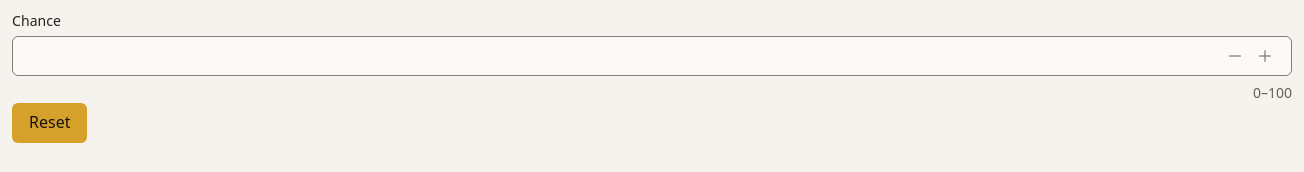
Test: Enter brings a typed value back inside the range
In the number field: (619, 56) [25,36,1213,74], type "500"
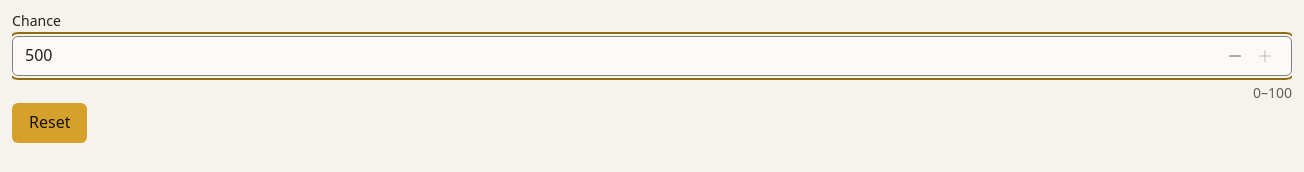
Press Enter
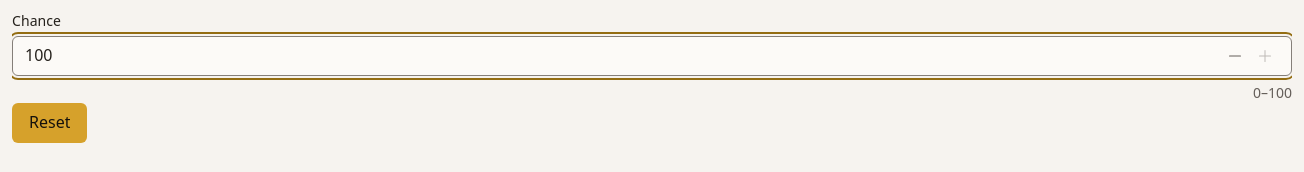
Expected: the number field holds "100", [25,36,1213,74]
